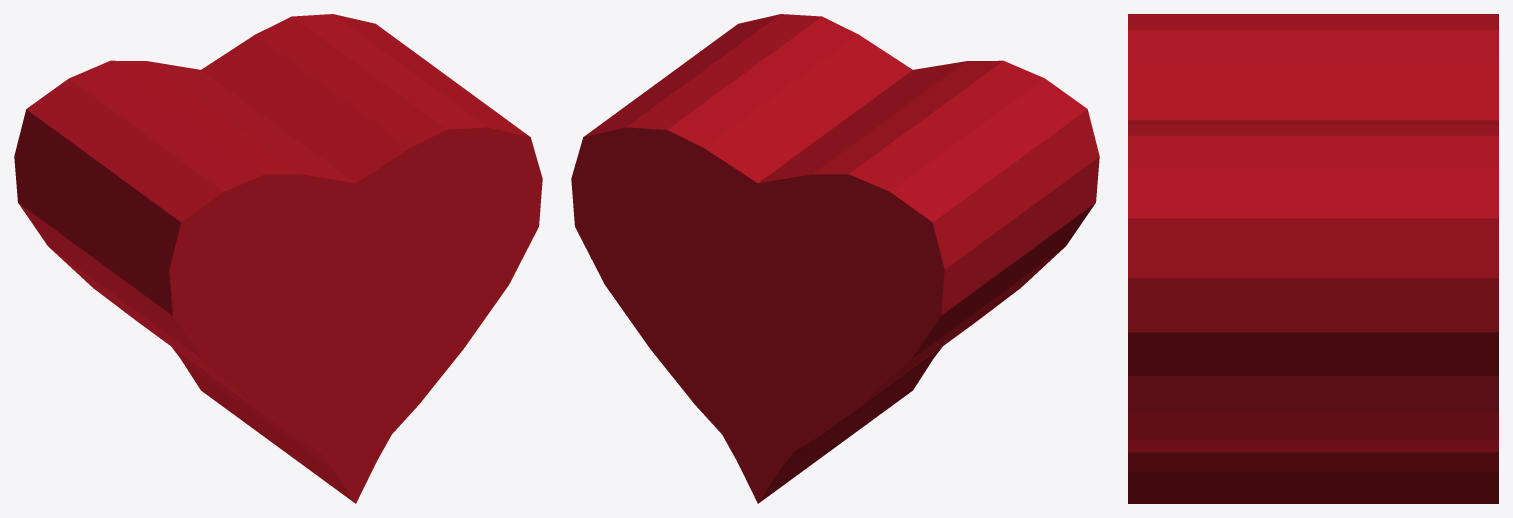
The model's file is Powa health.fbx.
The picture shows the model from 3 angles, left to right: view 1: azimuth 30°, elevation 25°; view 2: azimuth 150°, elevation 25°; view 3: azimuth 270°, elevation 25°; orthographic projection. The views are drawn at different scales.
Visible parts, largest first — view 1: Cube.001; view 2: Cube.001; view 3: Cube.001.
Part boxes in pixels (bbox=[...]): Cube.001: bbox=[14, 14, 542, 503]; Cube.001: bbox=[571, 14, 1099, 503]; Cube.001: bbox=[1128, 14, 1498, 503].
Bounding box in the file's own units: 278 × 251 × 200.
